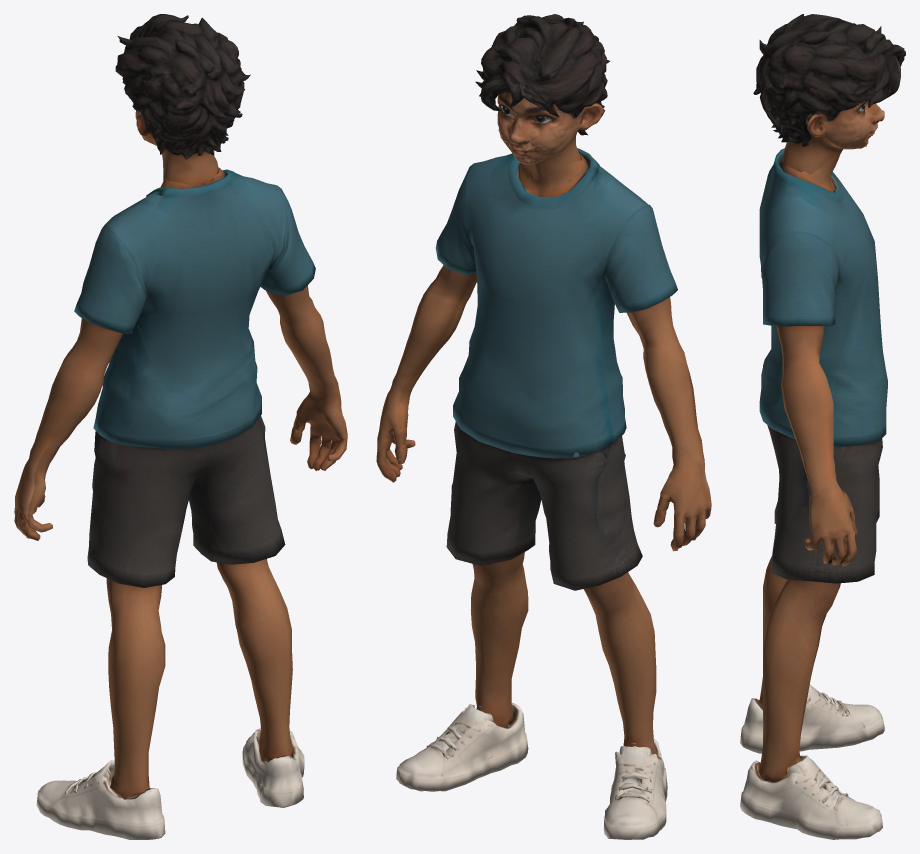
File: teen_courier.glb
The picture shows the model from 3 angles, left to right: view 1: azimuth 30°, elevation 25°; view 2: azimuth 150°, elevation 25°; view 3: azimuth 270°, elevation 25°; orthographic projection.
Visible parts, largest first — view 1: TeenCourier; view 2: TeenCourier; view 3: TeenCourier.
Part boxes in pixels (x1,y1,x2,y2): TeenCourier: (14,14,347,839); TeenCourier: (376,14,711,839); TeenCourier: (740,14,905,839).
Size of the model in its own units: 0.7133 by 1.62 by 0.3202.
Materials: 5 (5 with a texture image).
